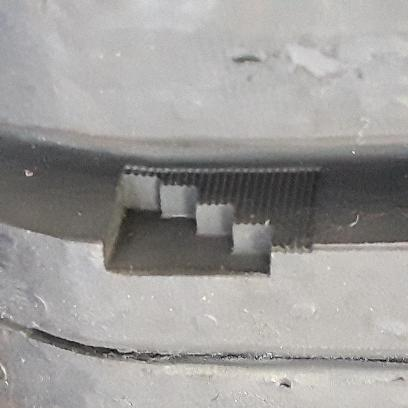temoin:100: (100, 161, 324, 286)
